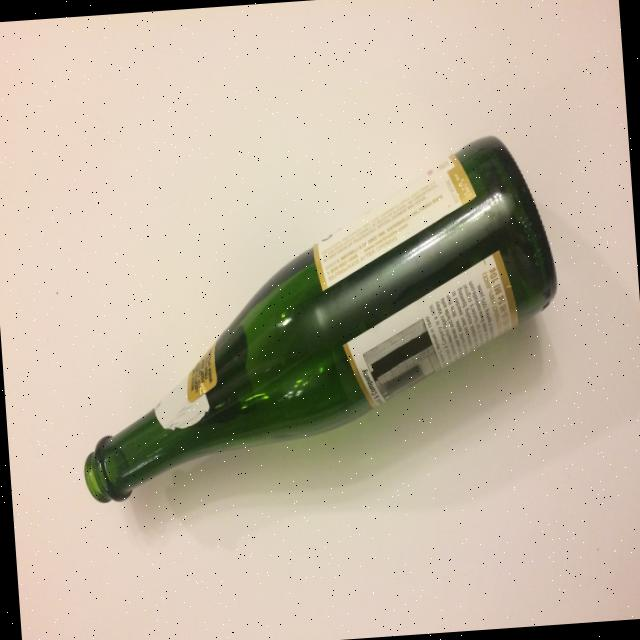glass: (62, 130, 571, 505)
